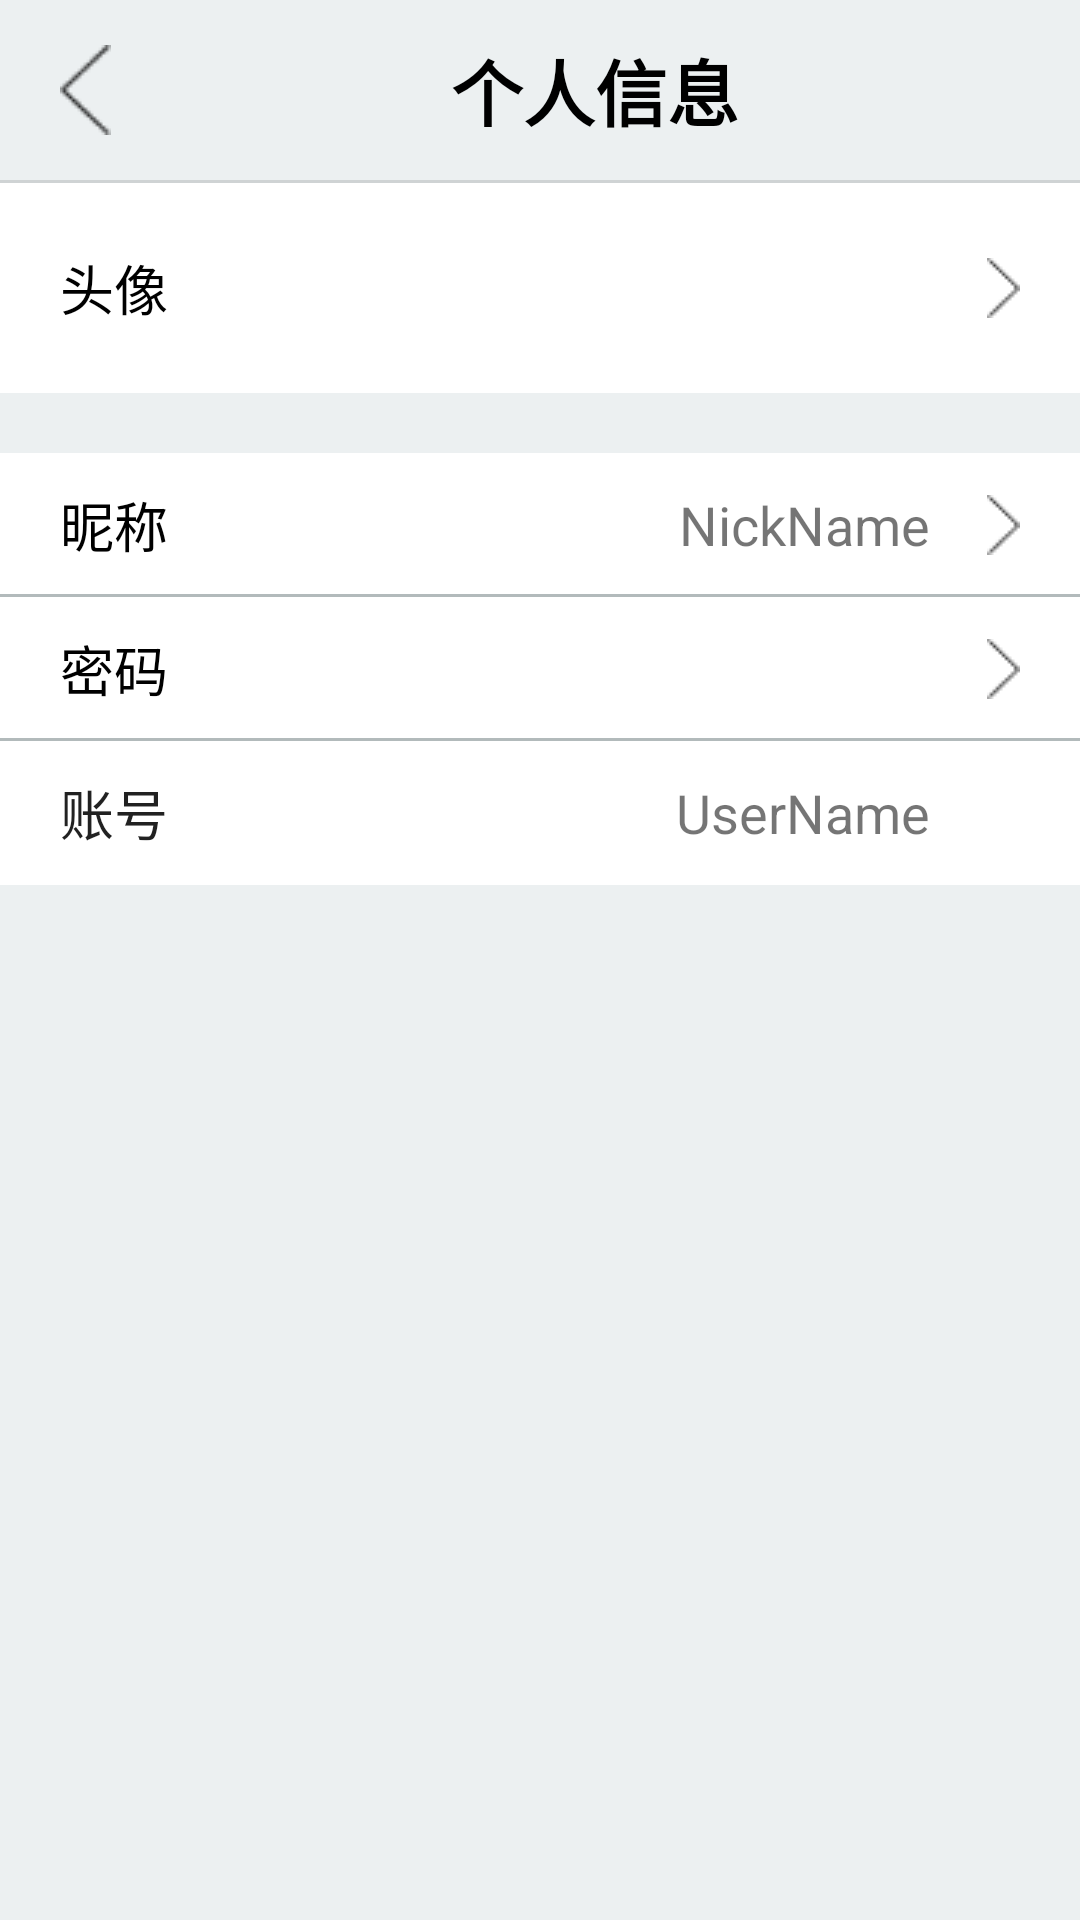

Where to tap for icons on this 1080px x 1920px app screen, as [x,y]:
less: [85,90]
